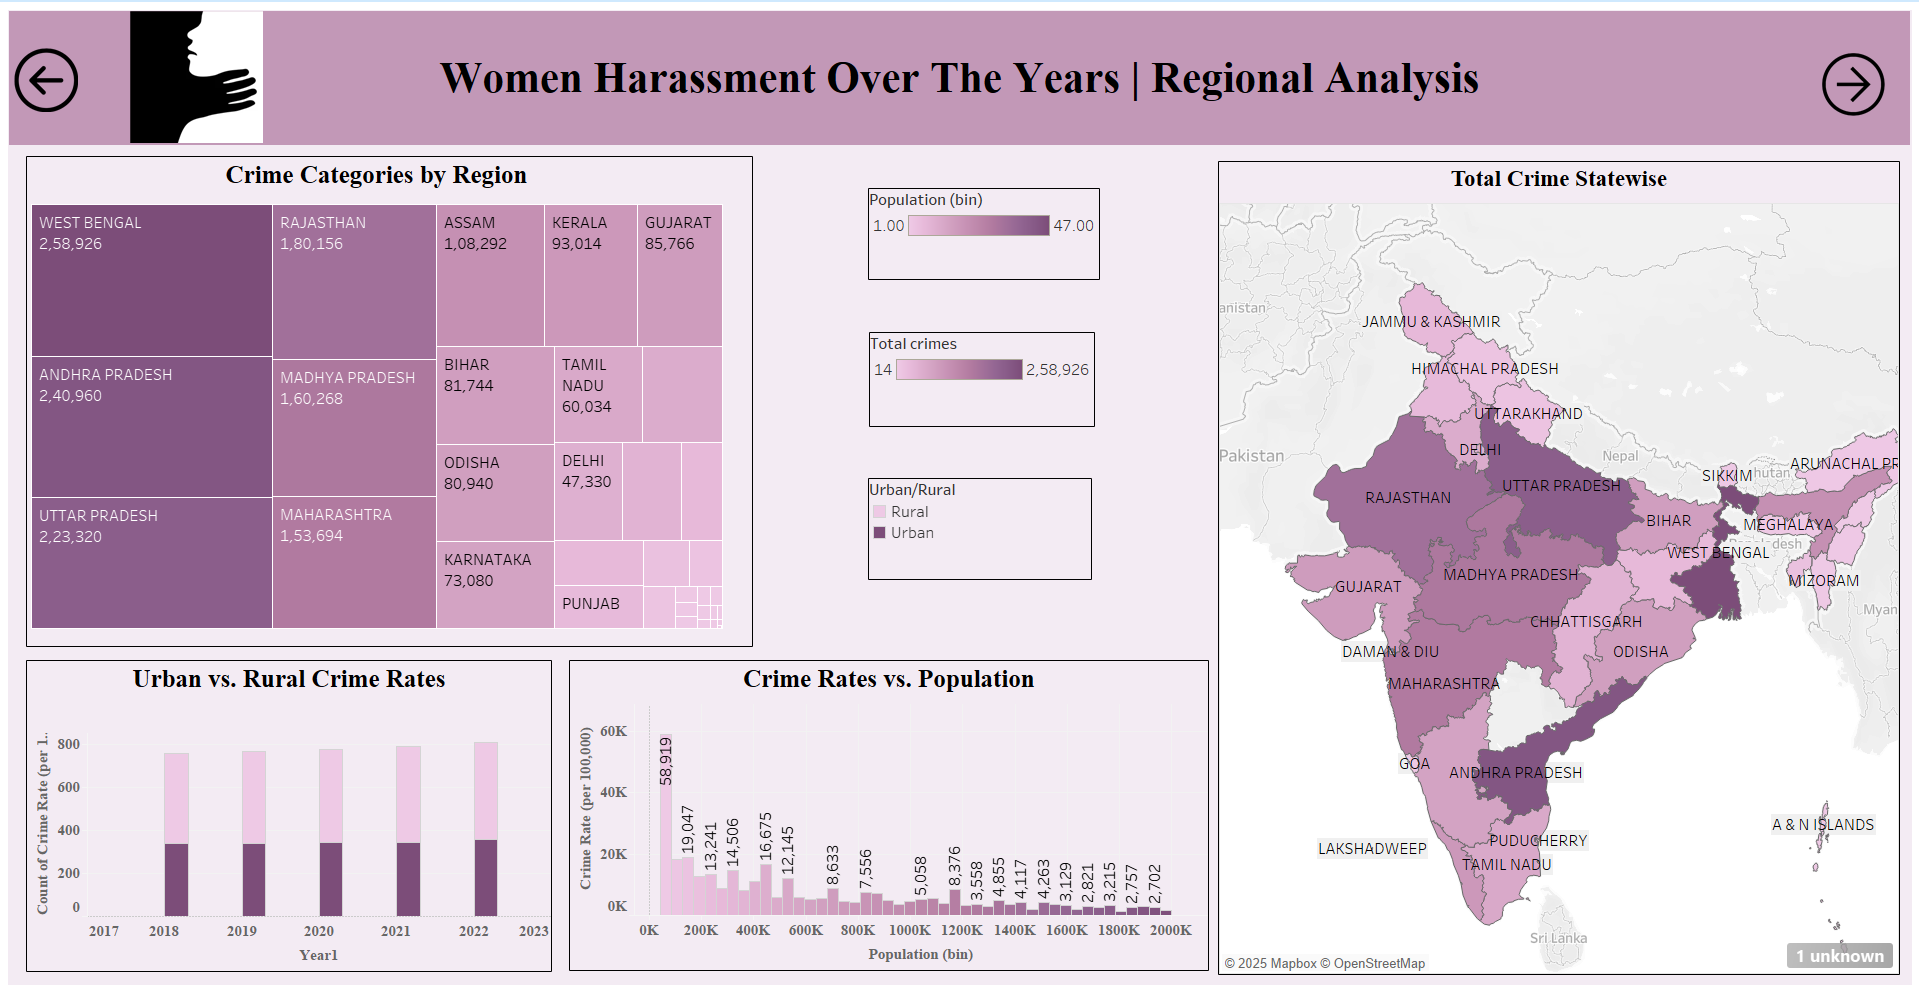

This screenshot's page, from the dashboard's own definition file:
{"tool":"tableau","page":{"name":"Regional and Demographic Analysis (2)","canvas":[1000,1000],"units":"permille","ordinal":2},"visuals":[{"type":"text","box":[4.7,8.7,990,134.8]},{"type":"image","param":"Image/hand-strangling-choking-neck-victim-250nw-[phone redacted].jpg","box":[55,8.7,94.5,133.6]},{"type":"worksheet","title":"TreeMAP 2018","mark":"Automatic","box":[13.8,154.8,378.6,494.4]},{"type":"worksheet","title":"Geo Map","mark":"Automatic","box":[634.6,159.8,355.3,820.2]},{"type":"legend","title":"Histogram","param":"[federated.0kj8snf1r7lt5a13h7fj500s52qf].[none:Population (bin):qk]","box":[452,187.3,120.7,92.4]},{"type":"legend","title":"Geo Map","param":"[federated.0kj8snf1r7lt5a13h7fj500s52qf].[sum:Total crimes:qk]","box":[452.6,332.1,117.7,96.1]},{"type":"legend","title":"stack (2)","param":"[federated.0kj8snf1r7lt5a13h7fj500s52qf].[none:Urban/Rural:nk]","box":[452,479.4,116.5,102.4]},{"type":"worksheet","title":"stack (2)","mark":"Bar","rows":["Crime Rate (per 100,000)"],"cols":["Year"],"box":[13.8,662.9,273.9,314.6]},{"type":"worksheet","title":"Histogram","mark":"Bar","rows":["Crime Rate (per 100,000)"],"cols":["Population (bin)"],"box":[296.3,662.9,333.1,313.4]}]}

Visuals, with their boxes on the dashboard's canvas, which has no fixed pixel size, in thousandths of its width and height (x1, y1, x2, y2). These are canvas units, not pixel positions in the 1919x985 screenshot, which may show the page scaled, cropped or inside an application window:
text: locate(5, 9, 995, 144)
image: locate(55, 9, 150, 142)
"TreeMAP 2018" worksheet: locate(14, 155, 392, 649)
"Geo Map" worksheet: locate(635, 160, 990, 980)
"Histogram" legend: locate(452, 187, 573, 280)
"Geo Map" legend: locate(453, 332, 570, 428)
"stack (2)" legend: locate(452, 479, 568, 582)
"stack (2)" worksheet (Bar marks): locate(14, 663, 288, 978)
"Histogram" worksheet (Bar marks): locate(296, 663, 629, 976)
